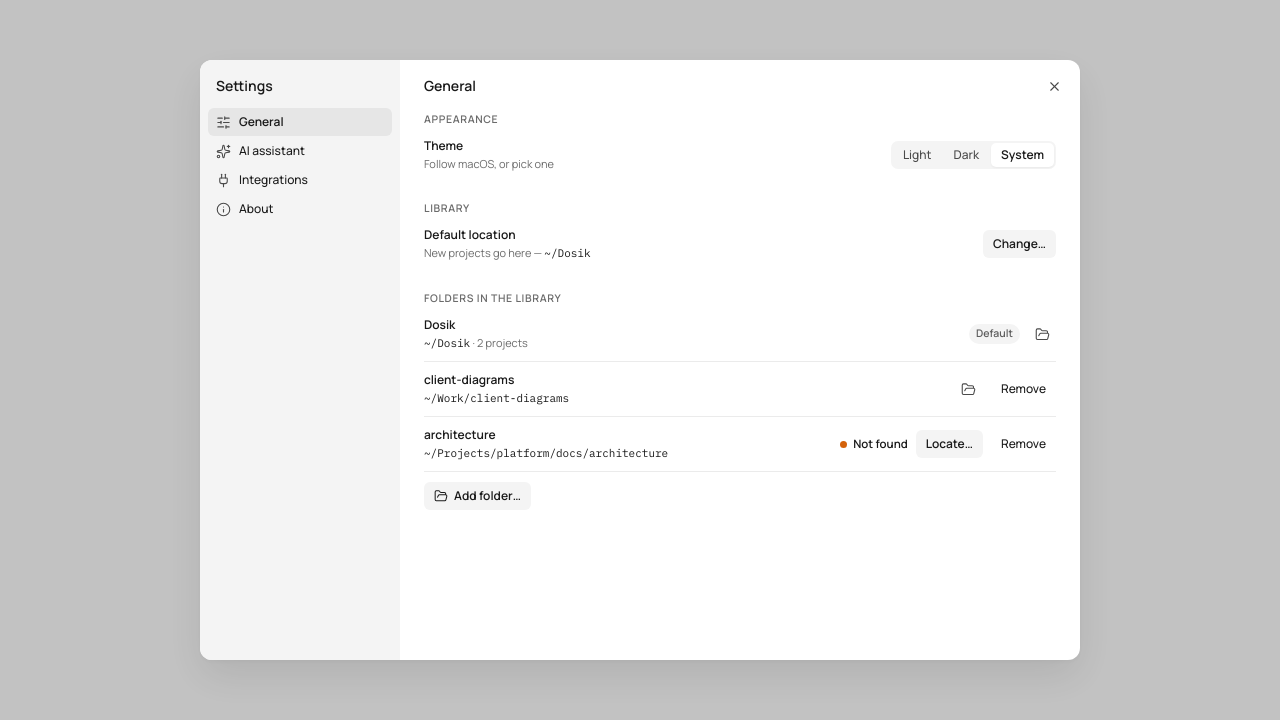
General ▸ Library (#256 R2) › Change… shows the new default location even when listing the library after it fails
The image size is (1280, 720).
Expected: the text "Dosik" is shown, [424,316,455,333]
Click the button "Change…" at (1020, 244), box [983,230,1056,258]
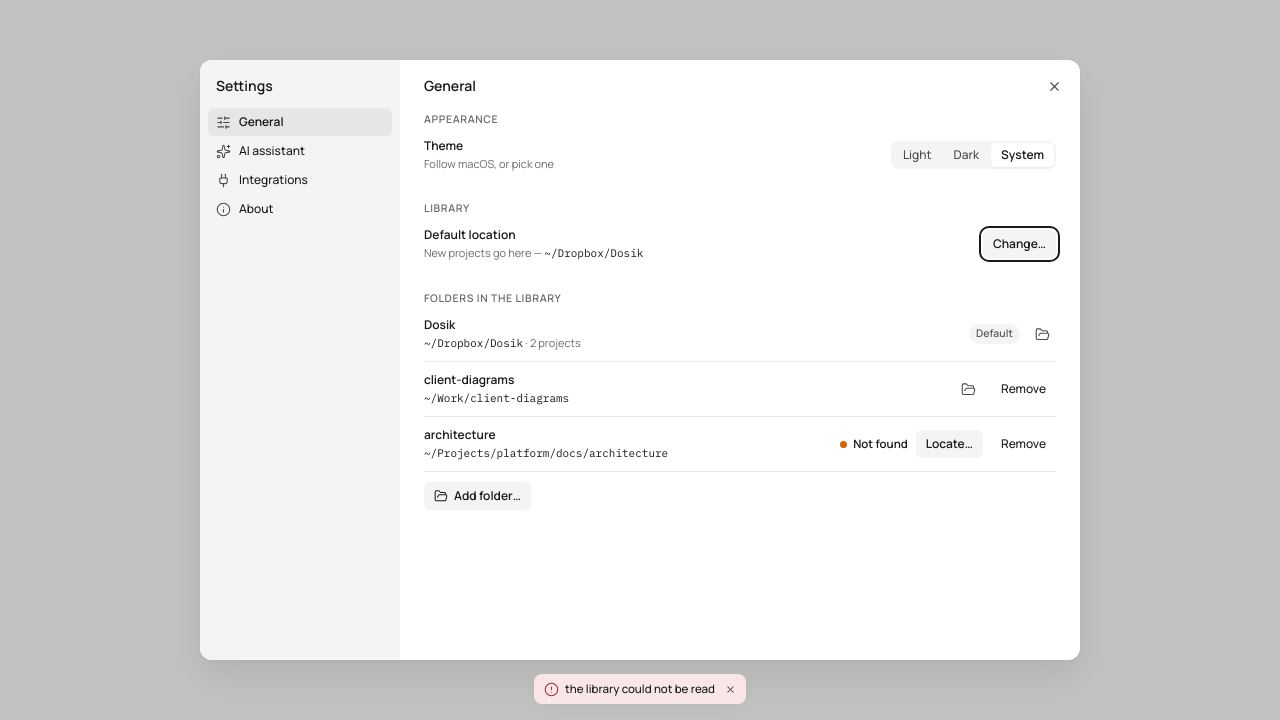
Expected: the element showing "New projects go here — ~/Dropbox/Dosik" is shown, [424,245,643,260]
